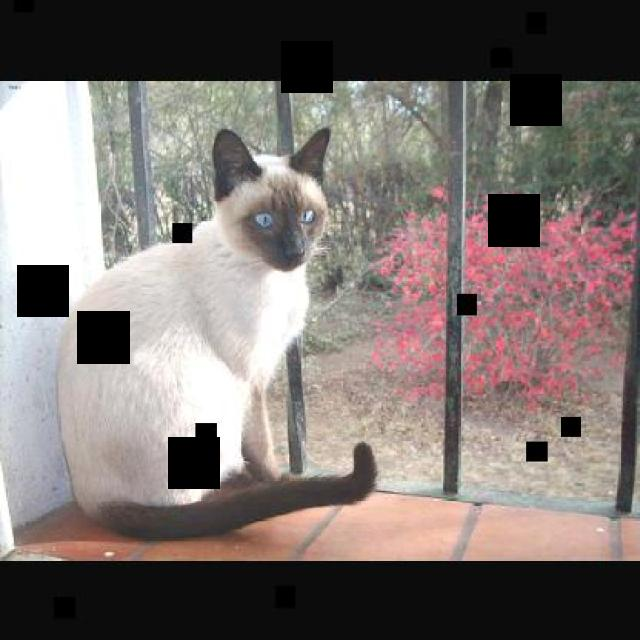unauthorized: (54, 125, 377, 540)
